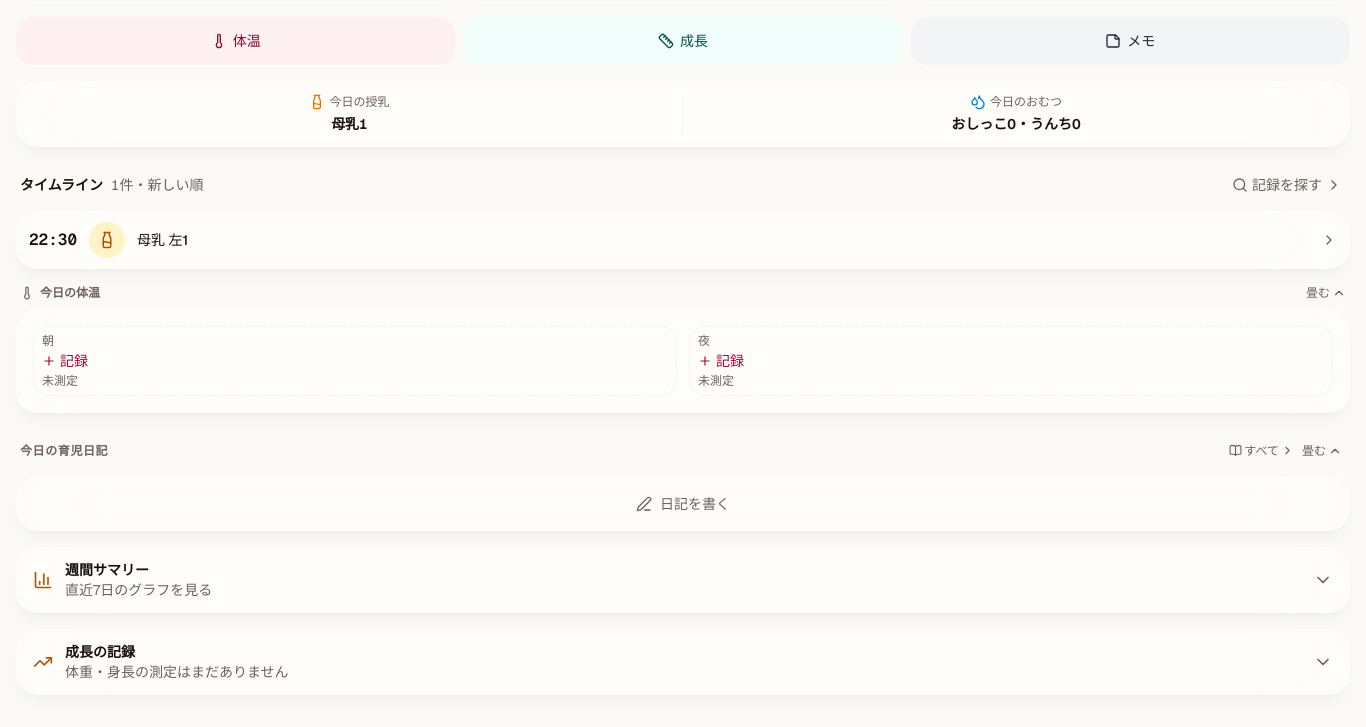
Test case: BabyDashboard / 開いたまま日を跨ぐ — 選択日の追従 › 日記シートを開いておる最中は選択日を動かさぬ
(page scrolled)
// 日記が無い日の入口は「日記を書く」
Click the button "日記を書く" at (683, 504), box [17,478,1349,530]
Wait 360000 ms
(page scrolled)
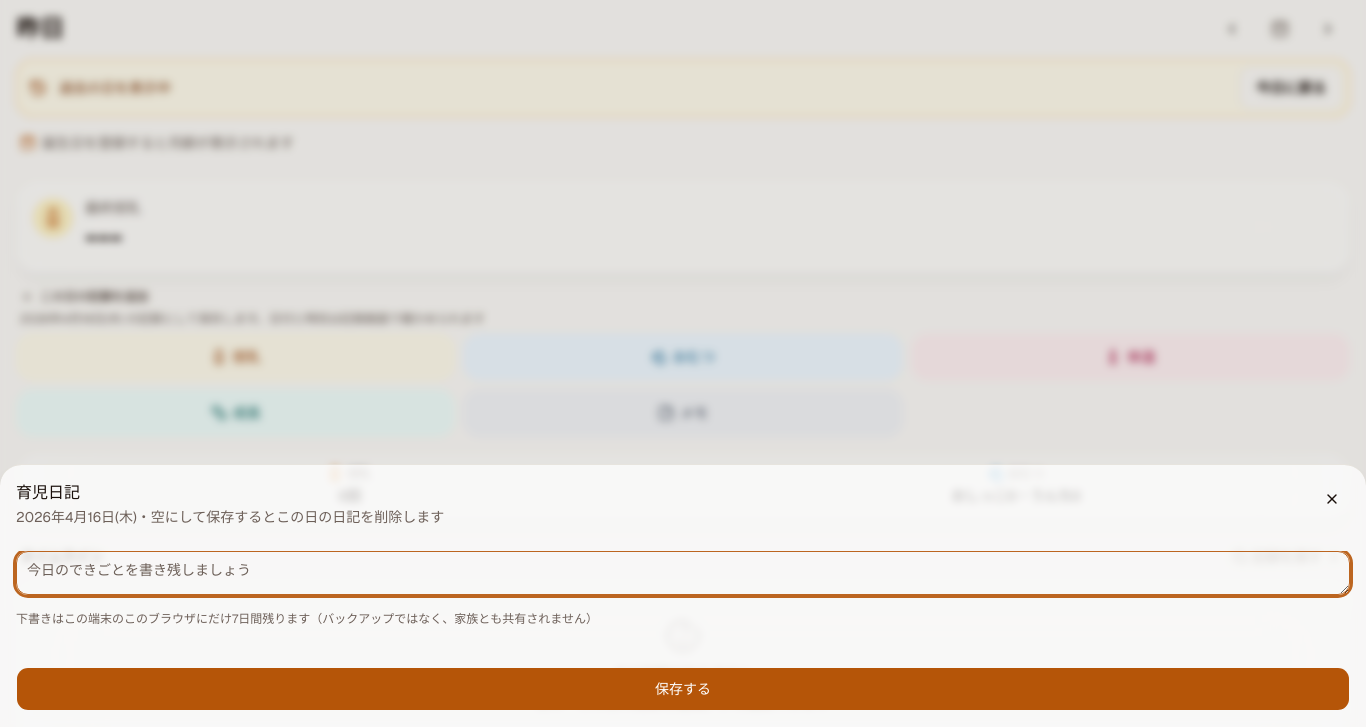
Check: the dialog is shown, box [0,464,1365,726]
Check: the heading "昨日" is shown, box [16,13,64,45]
